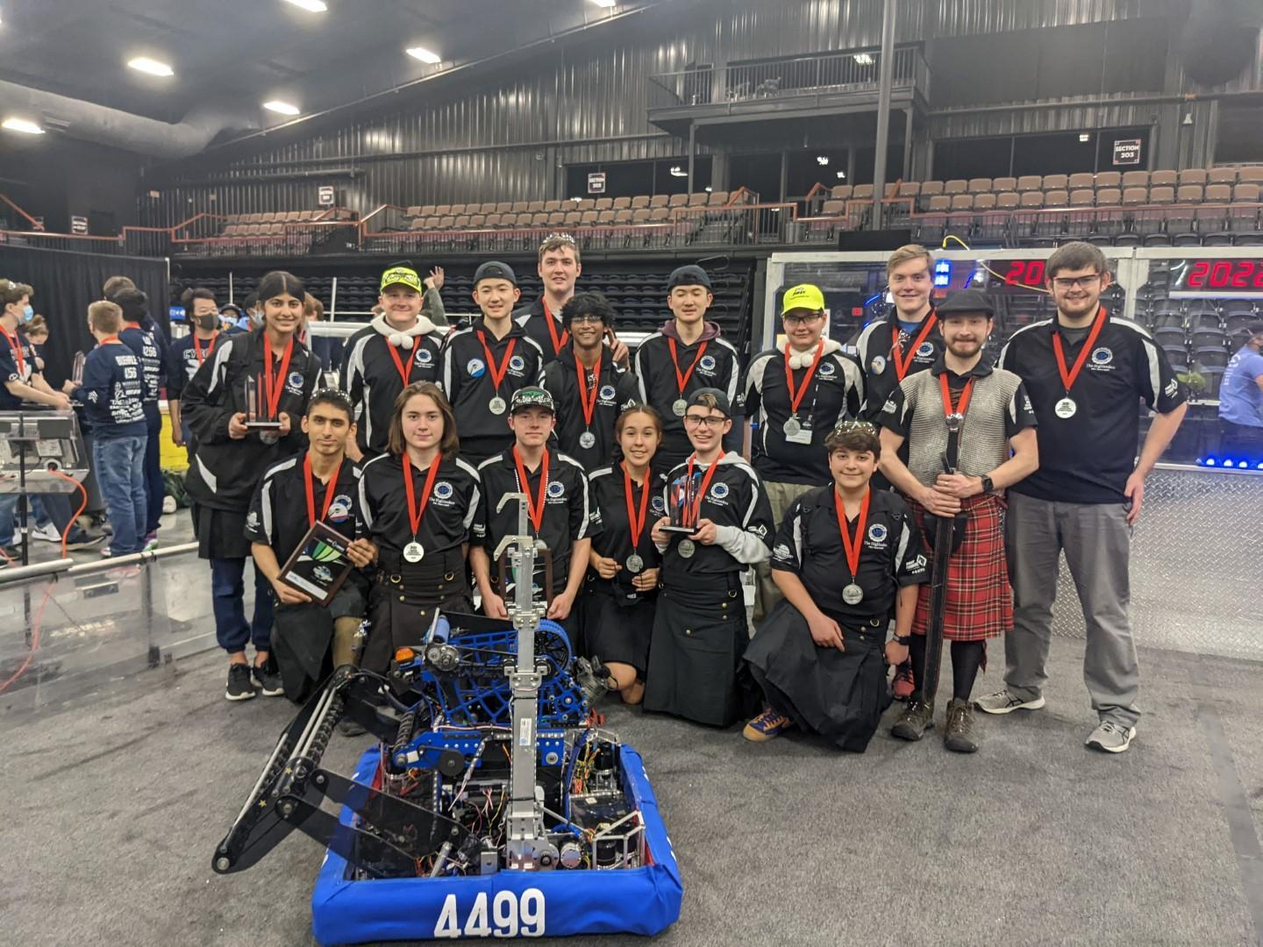robot: (208, 481, 697, 947)
